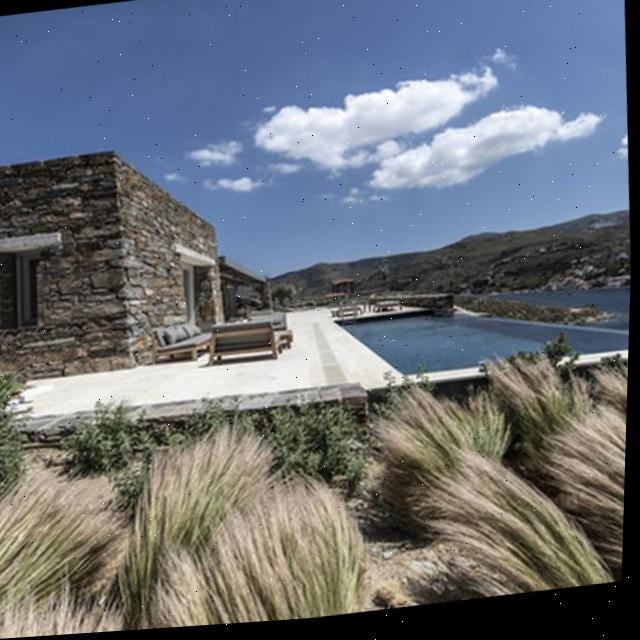building: (0, 137, 233, 389)
